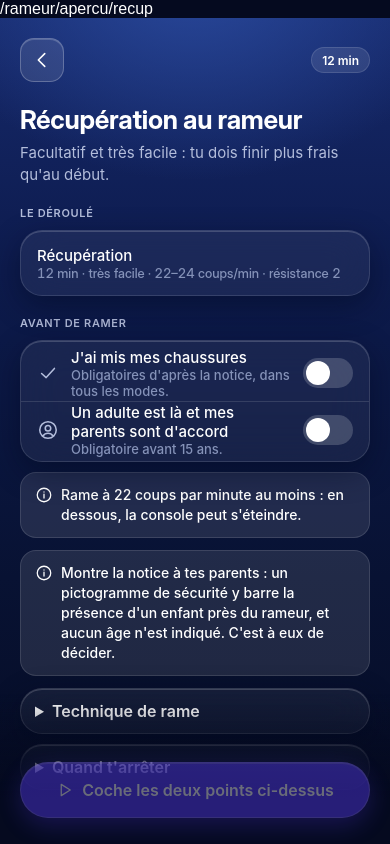
Test: aperçu › sans rameur connecté, demande de connecter et lance le simulé
The image size is (390, 844).
What coordinates should you click on to do the following:
click the switch named "J'ai mis mes chaussures"
I would click on:
 (328, 373)
Its box is [303,358,353,388].
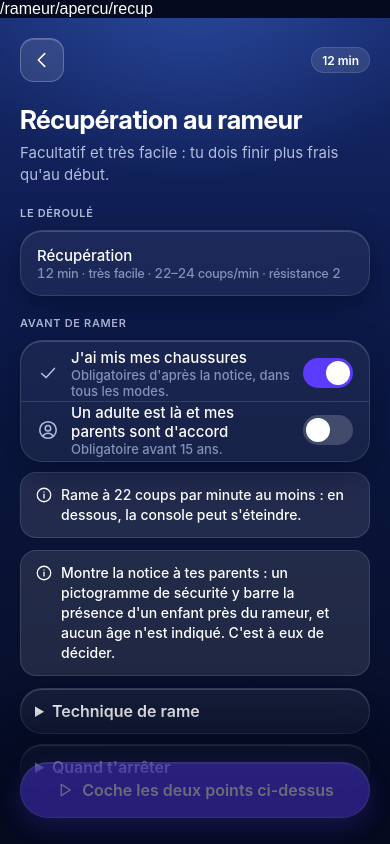
What coordinates should you click on to do the following:
click the switch named "Un adulte est là"
I would click on:
 (328, 430)
Its box is [303,414,353,444].
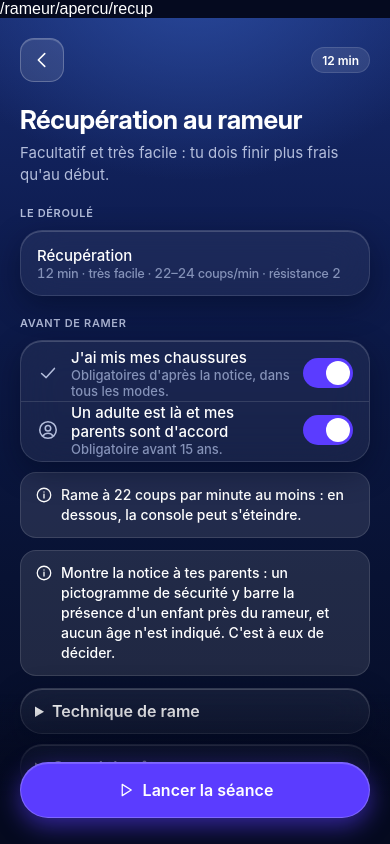
What coordinates should you click on to do the following:
click the button "Lancer la séance"
I would click on:
 (195, 790)
Its box is [20,762,370,818].
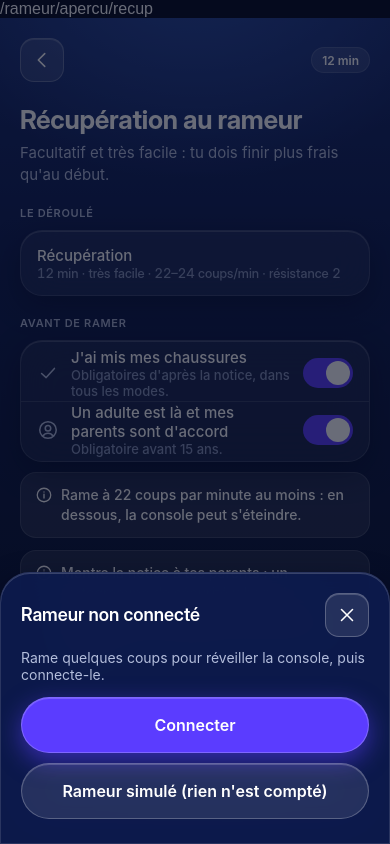
Expected: the button "Connecter" is shown, [21,697,369,753]
What coordinates should you click on to do the following:
click the button "Rameur simulé (rien n'est compté)"
I would click on:
 (195, 791)
Its box is [21,763,369,819].
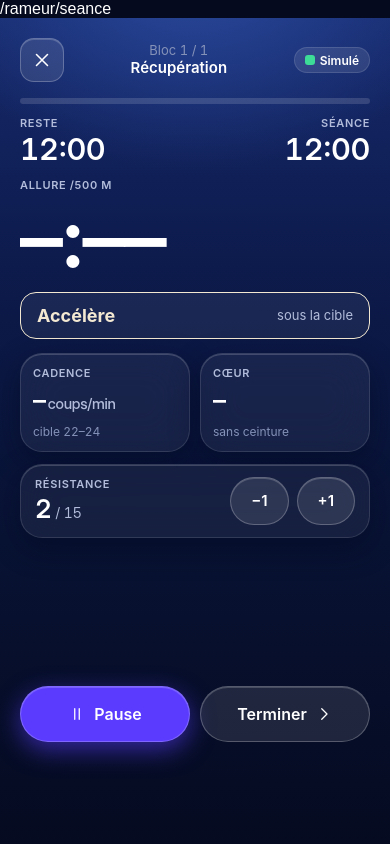
Expected: the text with test id "where" reads "/rameur/seance", [0,0,111,17]
Expected: the text "Allure /500 m" is shown, [20,178,112,192]
